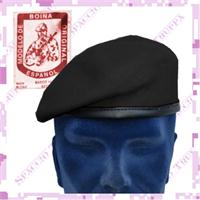hat: (36, 35, 180, 122)
